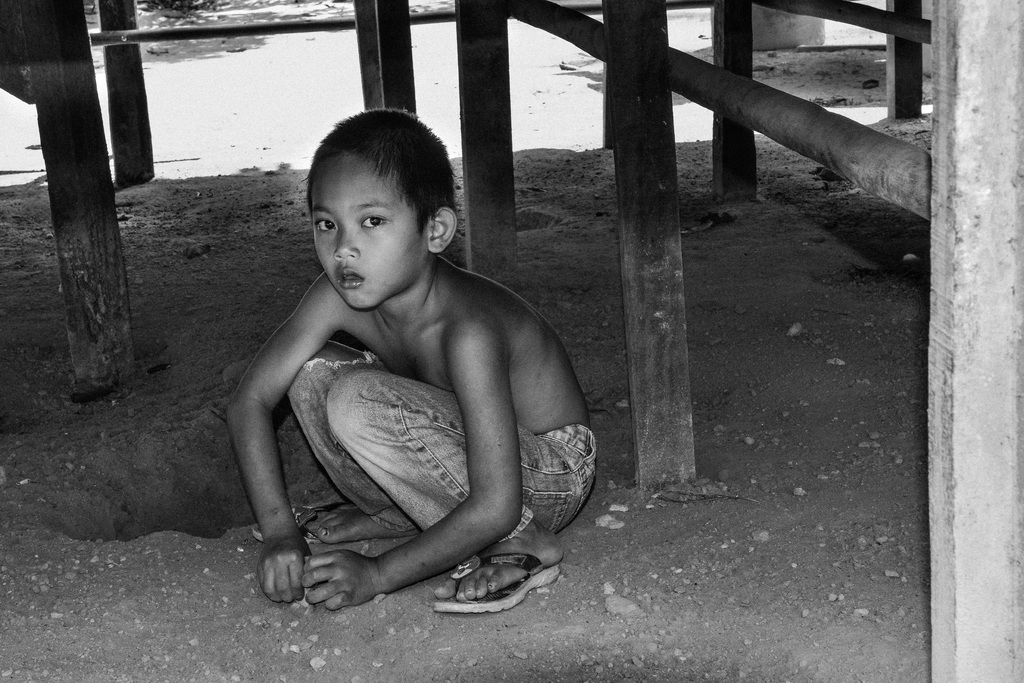Human_hand: (301, 549, 381, 612)
